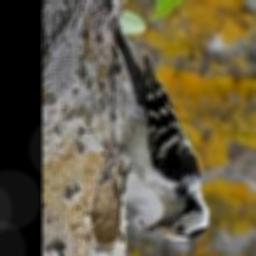Woodpecker: (113, 24, 209, 241)
